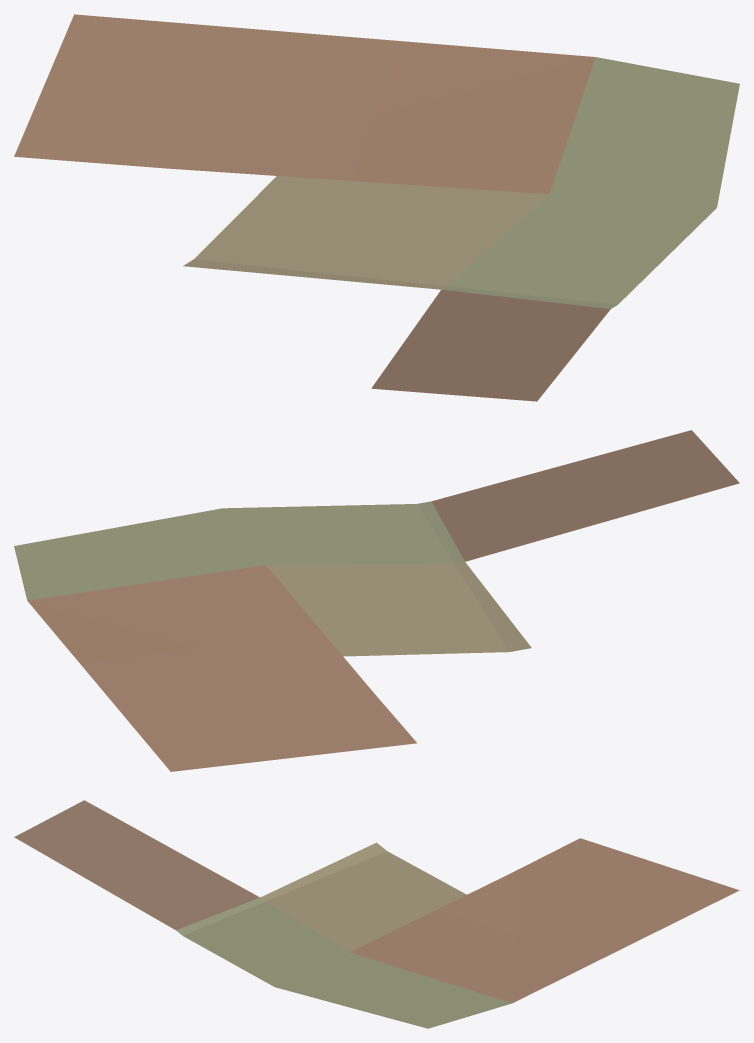
File: farm_-49_-48_soil.glb
The picture shows the model from 3 angles, top to bottom: view 1: azimuth 30°, elevation 25°; view 2: azimuth 150°, elevation 25°; view 3: azimuth 270°, elevation 25°; orthographic projection. The views are drawn at different scales.
Visible parts, largest first — view 1: geometry_0; view 2: geometry_0; view 3: geometry_0.
Boxes of the visible parts, left/top/right/bottom form: geometry_0: left=14, top=14, right=739, bottom=401; geometry_0: left=14, top=430, right=739, bottom=771; geometry_0: left=14, top=800, right=739, bottom=1028.
Size of the model in its own units: 72.84 by 5.71 by 110.
